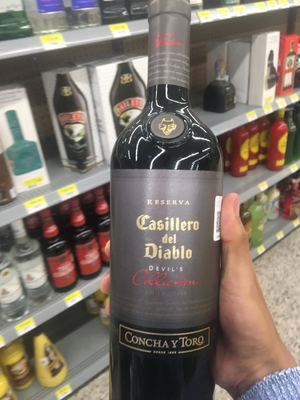casillero del diablo devils collection rojo: (106, 18, 226, 400)
